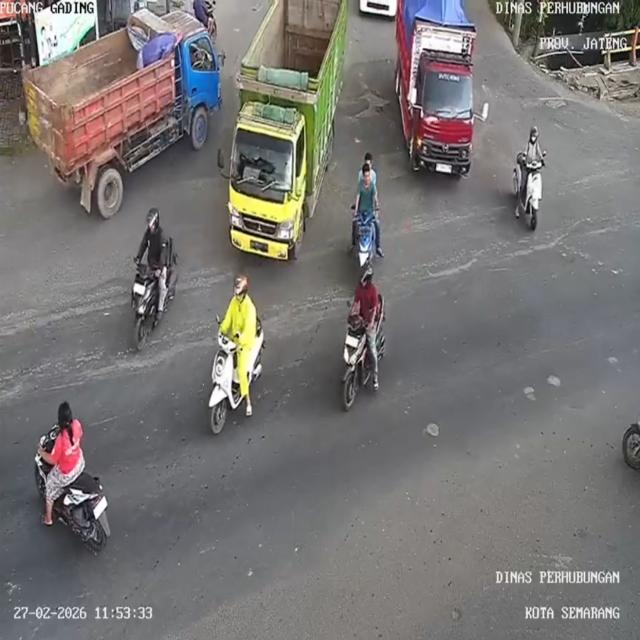motorcycle: (33, 432, 114, 560), (204, 319, 265, 438), (338, 293, 386, 413), (133, 239, 179, 348), (509, 153, 547, 232), (351, 210, 377, 272)
person: (43, 400, 88, 526), (218, 273, 256, 418), (138, 204, 171, 321), (352, 268, 380, 392), (514, 124, 546, 219), (351, 164, 377, 216), (355, 152, 378, 185), (192, 0, 213, 25)
rider_region: (30, 400, 114, 559), (205, 274, 268, 434), (341, 264, 388, 412), (133, 205, 178, 352), (347, 146, 383, 278), (507, 125, 549, 236)
